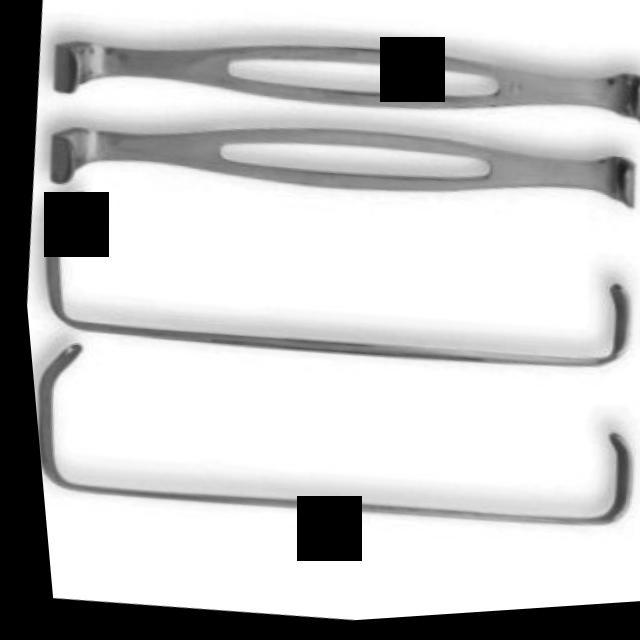Army Navy Retractor: (30, 79, 640, 269), (35, 0, 640, 189)
